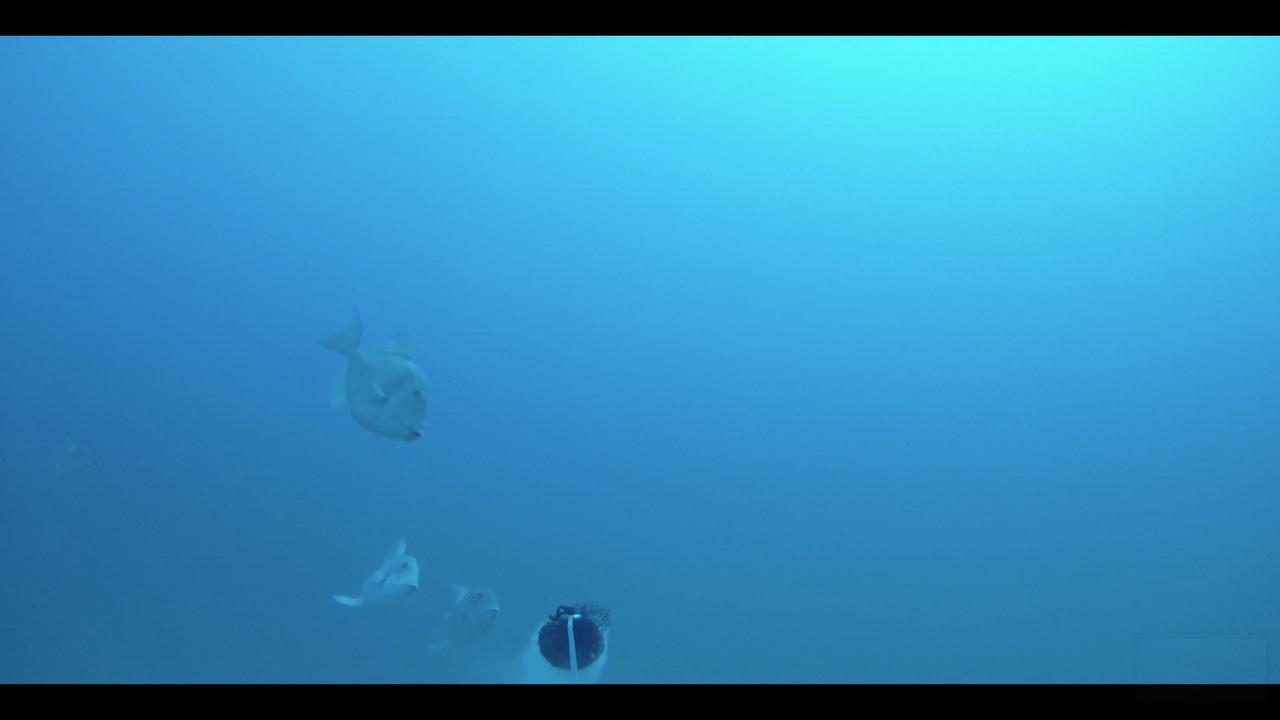balistes: (305, 300, 431, 441), (329, 534, 423, 621), (429, 581, 502, 656)
